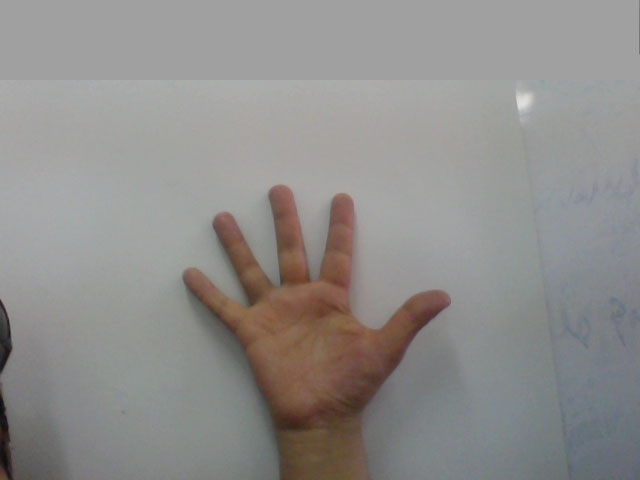hand: (161, 171, 460, 417)
